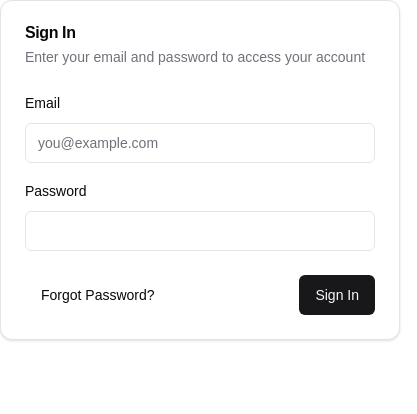
Scenario: SignInForm › validates required fields
Click the button "Sign In" at (337,295), box x1=299 y1=275 x2=375 y2=315
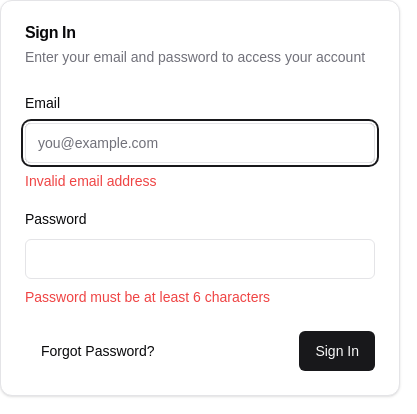
Expected: the text "Invalid email address" is shown, x1=25 y1=173 x2=156 y2=189
Expected: the text "Password must be at least 6 characters" is shown, x1=25 y1=289 x2=270 y2=305
